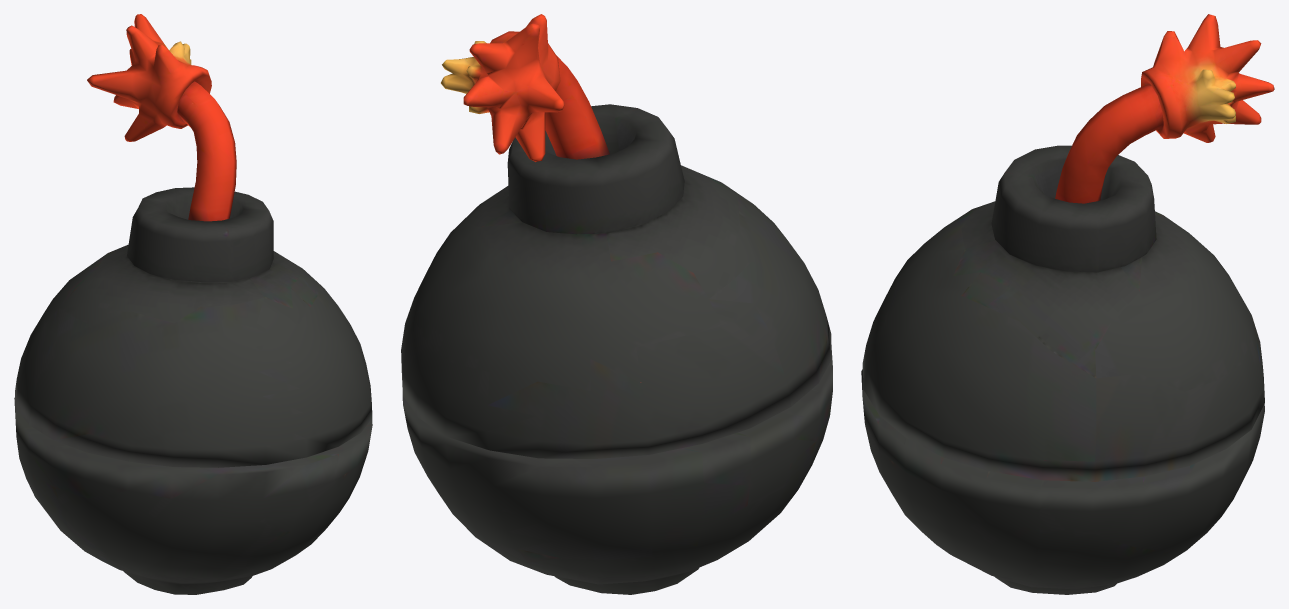
The model's file is skill-bomb.glb.
3 views of the same model, side by side, from view 1: azimuth 30°, elevation 25°; view 2: azimuth 150°, elevation 25°; view 3: azimuth 270°, elevation 25° (orthographic). The views are drawn at different scales.
Visible parts, largest first — view 1: tripo_node_df50a02b-33c4-47d8-acd6-003716c55c59; view 2: tripo_node_df50a02b-33c4-47d8-acd6-003716c55c59; view 3: tripo_node_df50a02b-33c4-47d8-acd6-003716c55c59.
Part boxes in pixels (bbox=[...]): tripo_node_df50a02b-33c4-47d8-acd6-003716c55c59: bbox=[14, 14, 372, 594]; tripo_node_df50a02b-33c4-47d8-acd6-003716c55c59: bbox=[401, 14, 832, 594]; tripo_node_df50a02b-33c4-47d8-acd6-003716c55c59: bbox=[861, 14, 1274, 594].
Size of the model in its own units: 0.6543 by 0.998 by 0.6699.
1 material, 1 textured.
